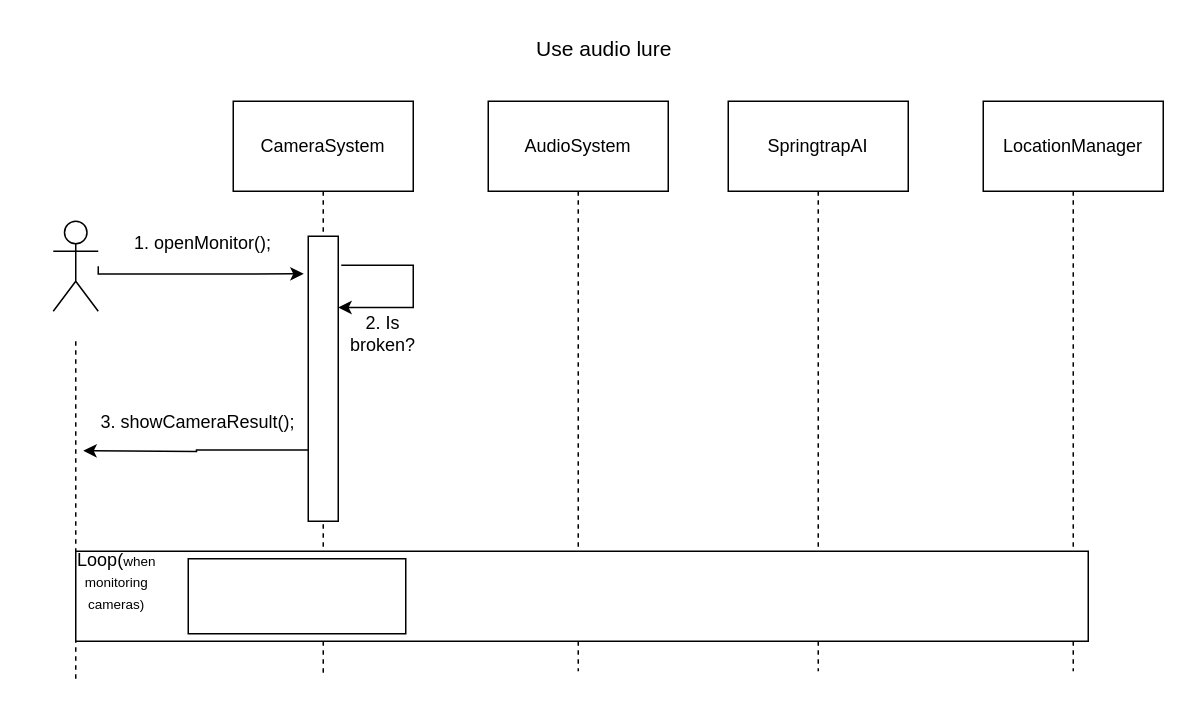
This 1190x707 diagram has some shape labels left out. The box of each missing label's shape, as (x1, y1, x2, y2) in pixels:
Guard(User): (52, 220, 98, 311)
opt: (187, 557, 406, 634)
